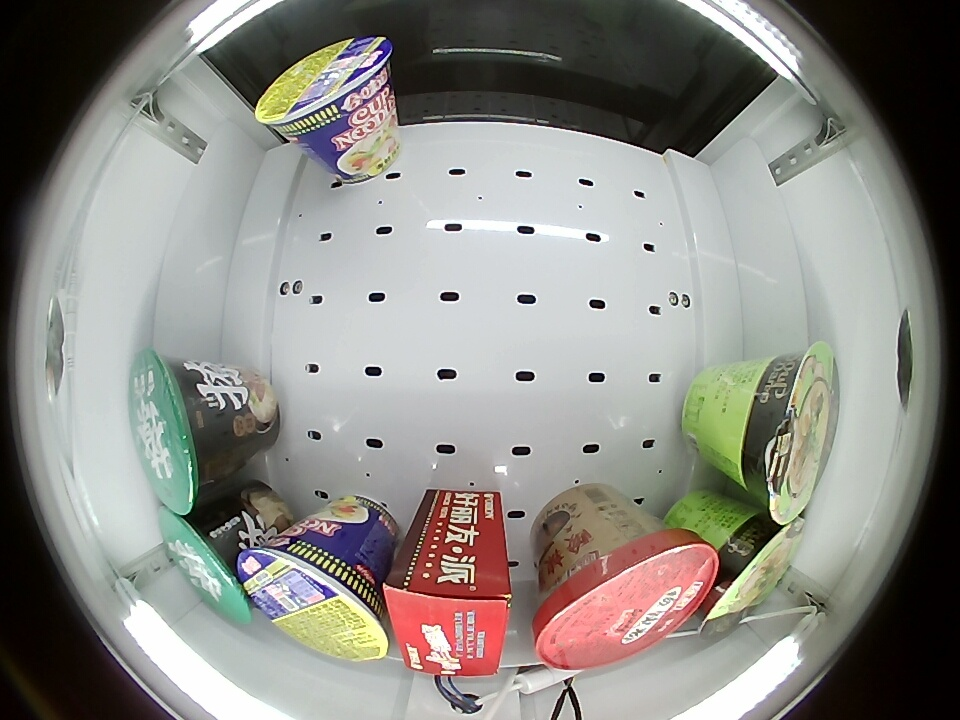haoliyou: (383, 540, 511, 677)
heweidao: (239, 535, 388, 663), (256, 36, 393, 142)
liaomian: (128, 349, 223, 516), (158, 508, 251, 627)
suanlafen: (530, 522, 719, 672)
tangdaren: (736, 341, 840, 523), (694, 510, 807, 640)
